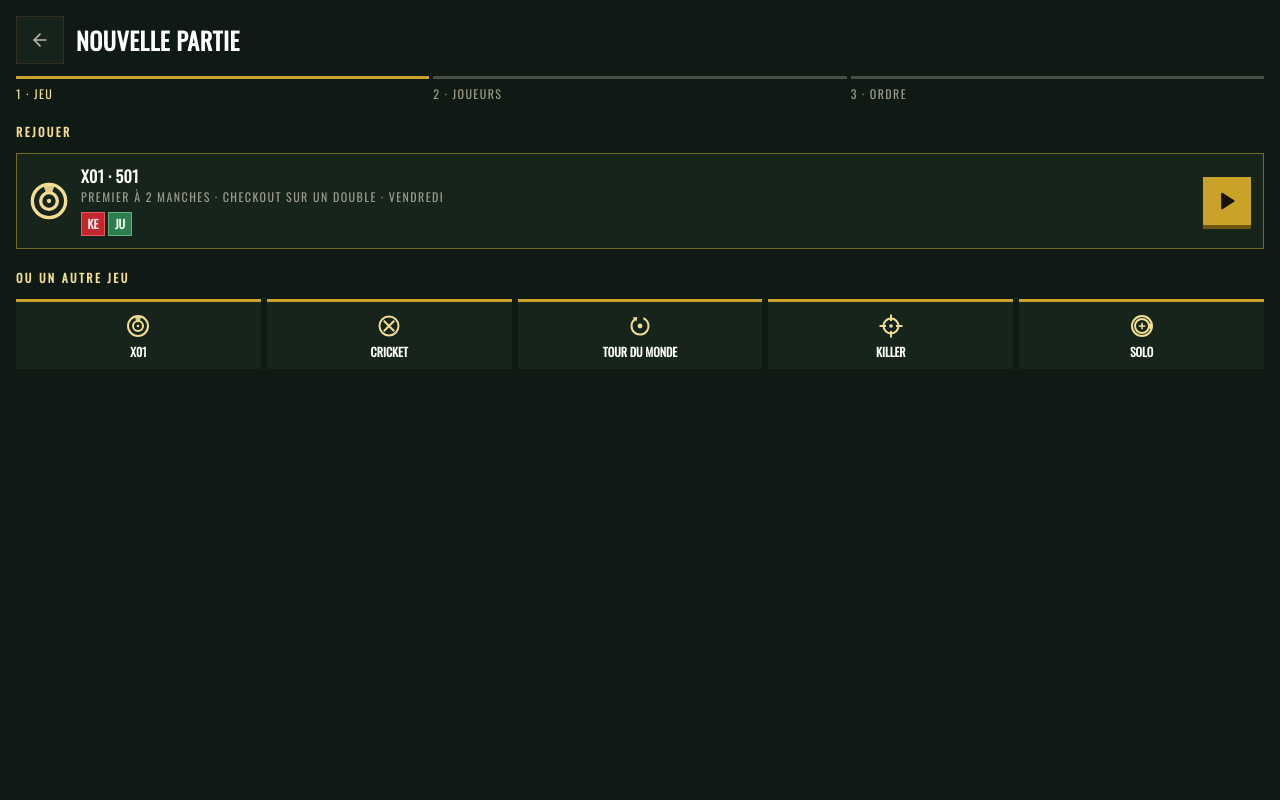
Test: Nouvelle partie — étape 1, « Rejouer » › le retour depuis l’Ordre ramène à l’étape 1
What coordinates should you click on to do the following:
click the button named "Rejouer X01 501"
I would click on:
 (1227, 201)
Its box is [1203,177,1251,225].
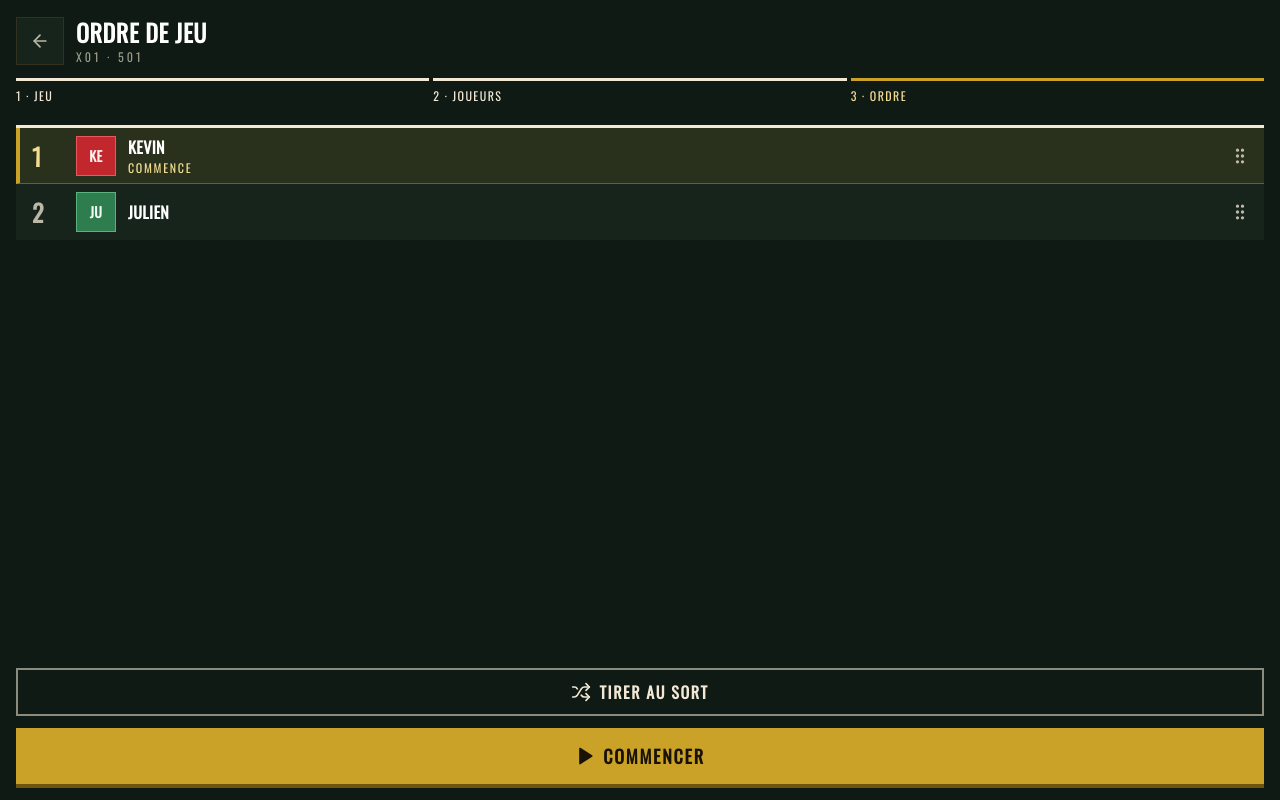
Expected: the heading "Ordre de jeu" is shown, [76,14,207,50]
What coordinates should you click on to do the following:
click the button named "Étape précédente"
I would click on:
 (40, 41)
Its box is [16,17,64,65].
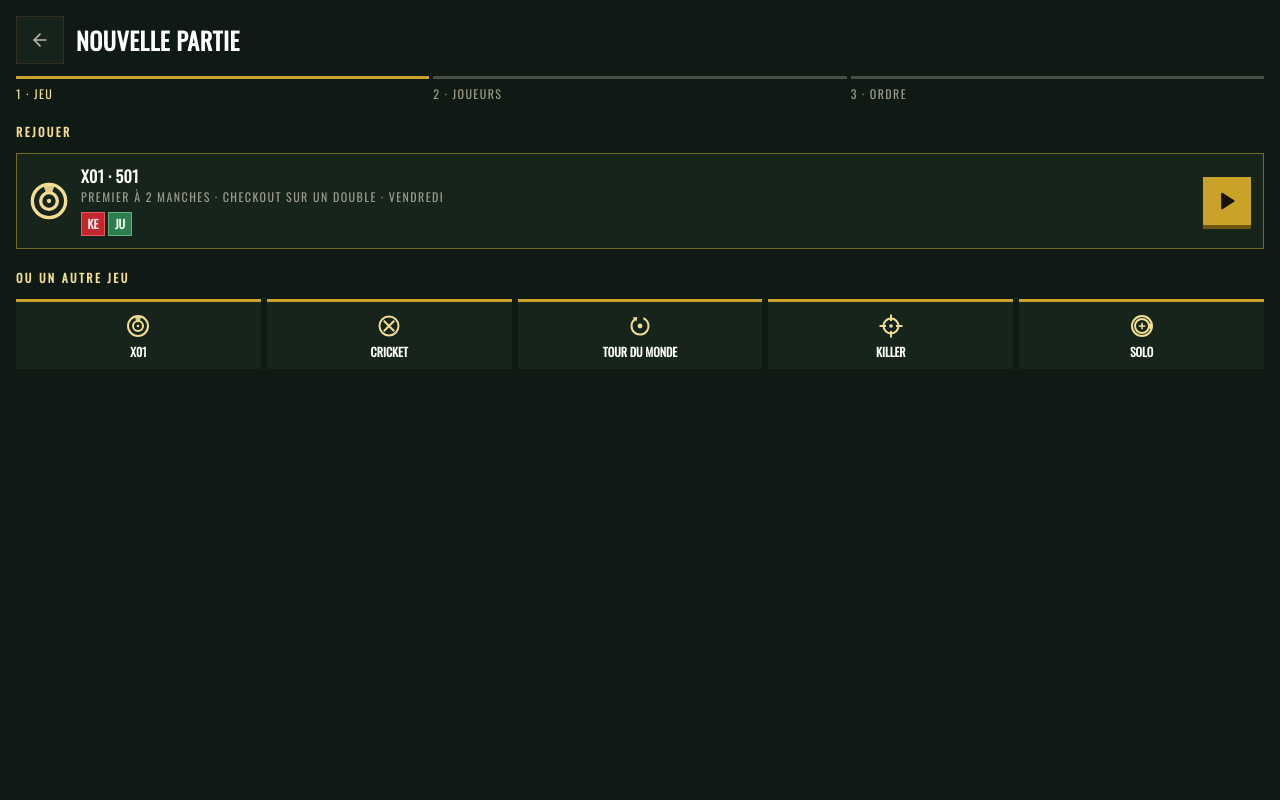
Expected: the heading "Rejouer" is shown, [16,123,72,140]
